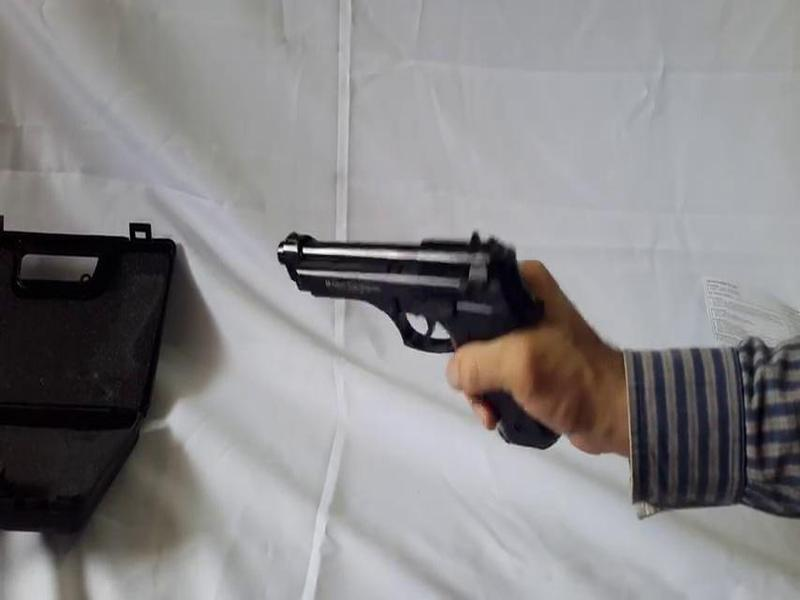Pistola: (257, 202, 592, 469)
